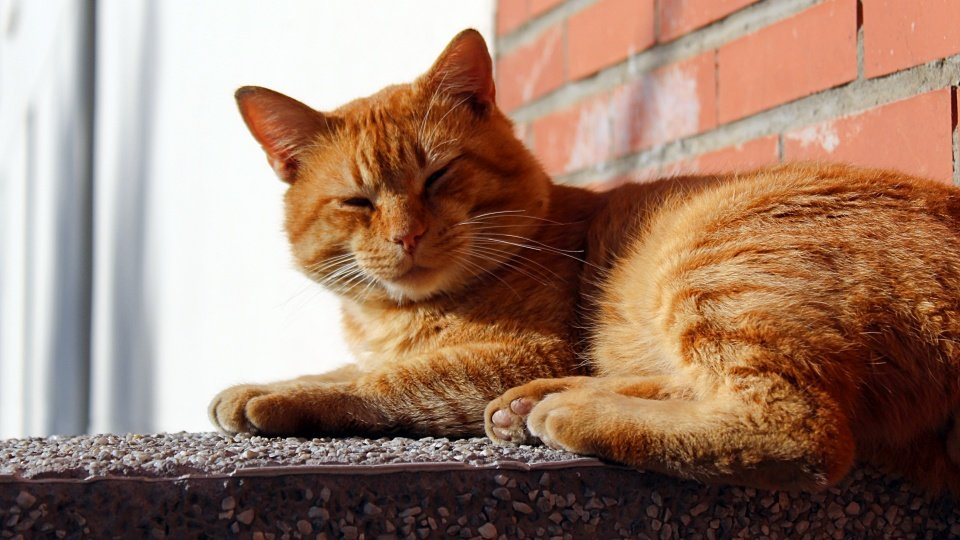cat: (176, 19, 960, 505)
